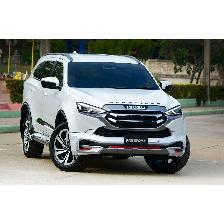NON-EV: (23, 52, 192, 175)
